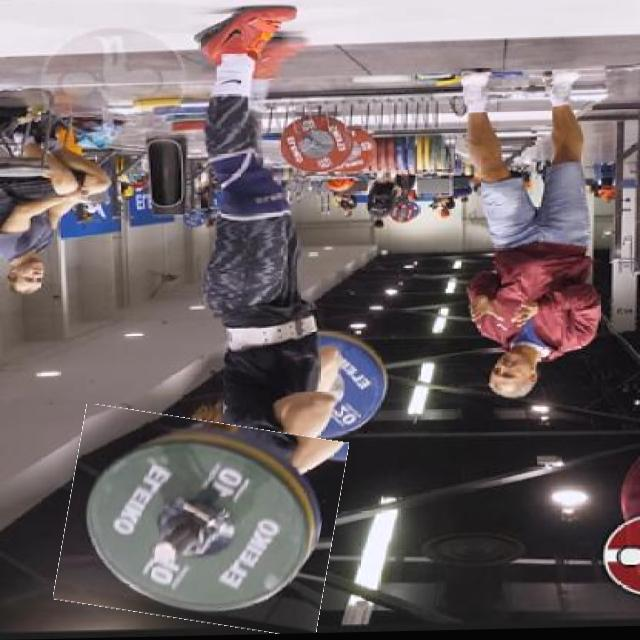barbell: (62, 411, 343, 636)
